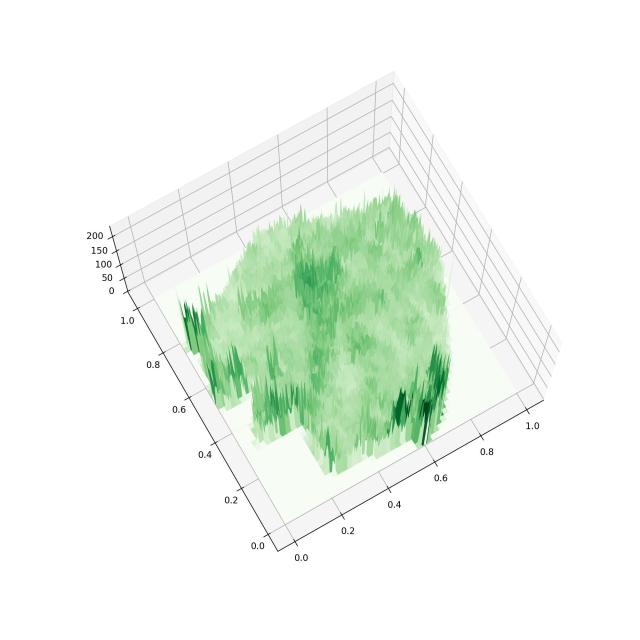fir: (61, 27, 588, 584)
